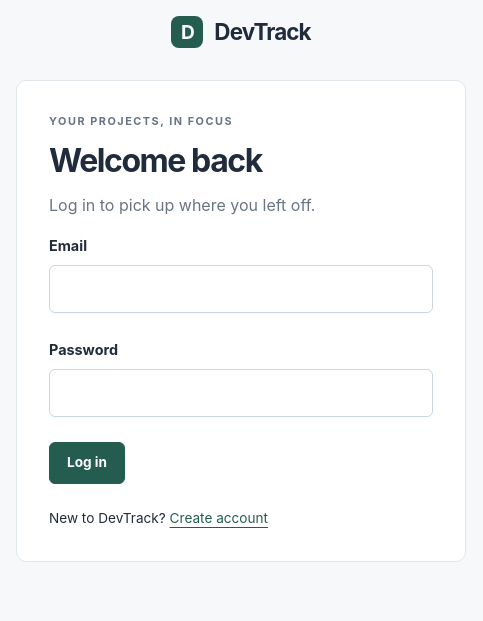
Test case: redirects a protected route to login and preserves typed input after invalid credentials
The image size is (483, 621).
Type "new@example.com" into the field labelled "Email".
click(241, 289); type("new@example.com")  # box x1=49 y1=265 x2=433 y2=313
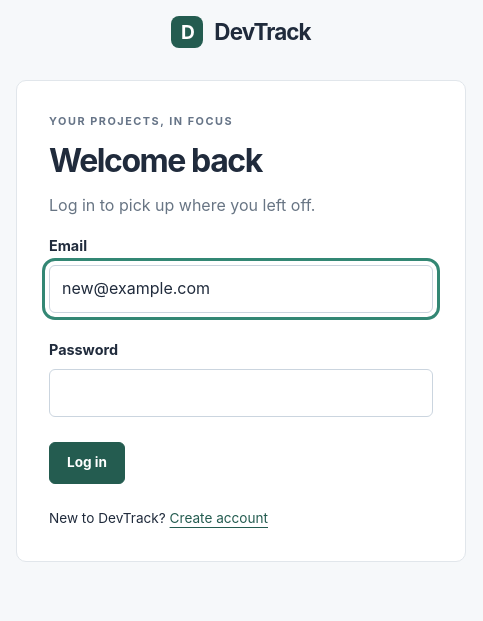
Type "wrong passphrase" into the password field labelled "Password".
click(241, 393); type("wrong passphrase")  # box x1=49 y1=369 x2=433 y2=416
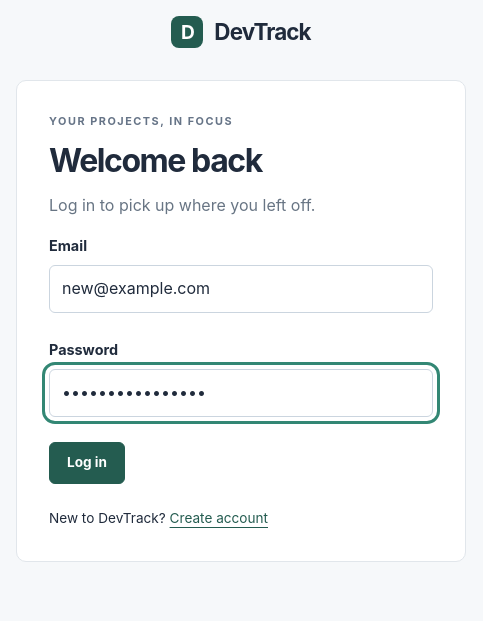
Click the button "Log in".
click(87, 462)  # box x1=49 y1=442 x2=125 y2=484
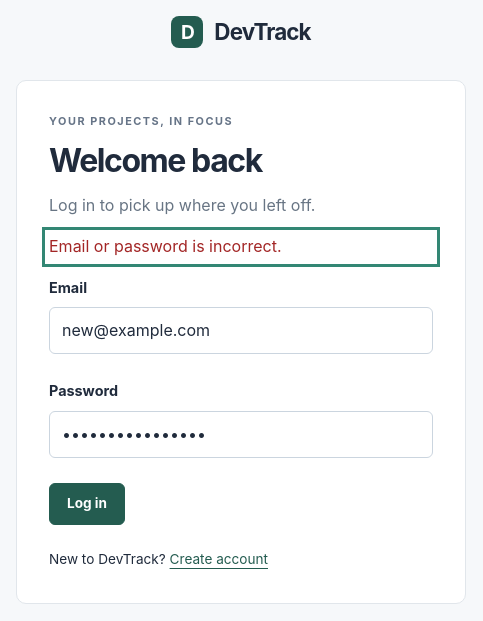
Expected: the message reads "Email or password is incorrect.", x1=49 y1=236 x2=282 y2=256
